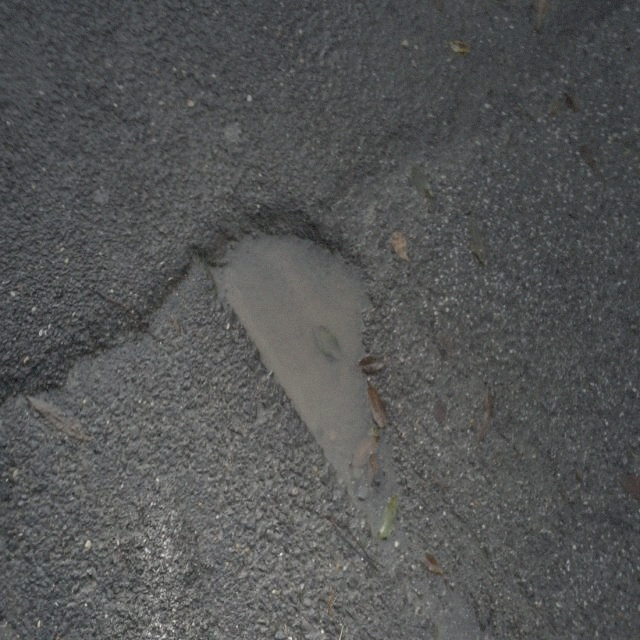pothole: (207, 189, 398, 498)
